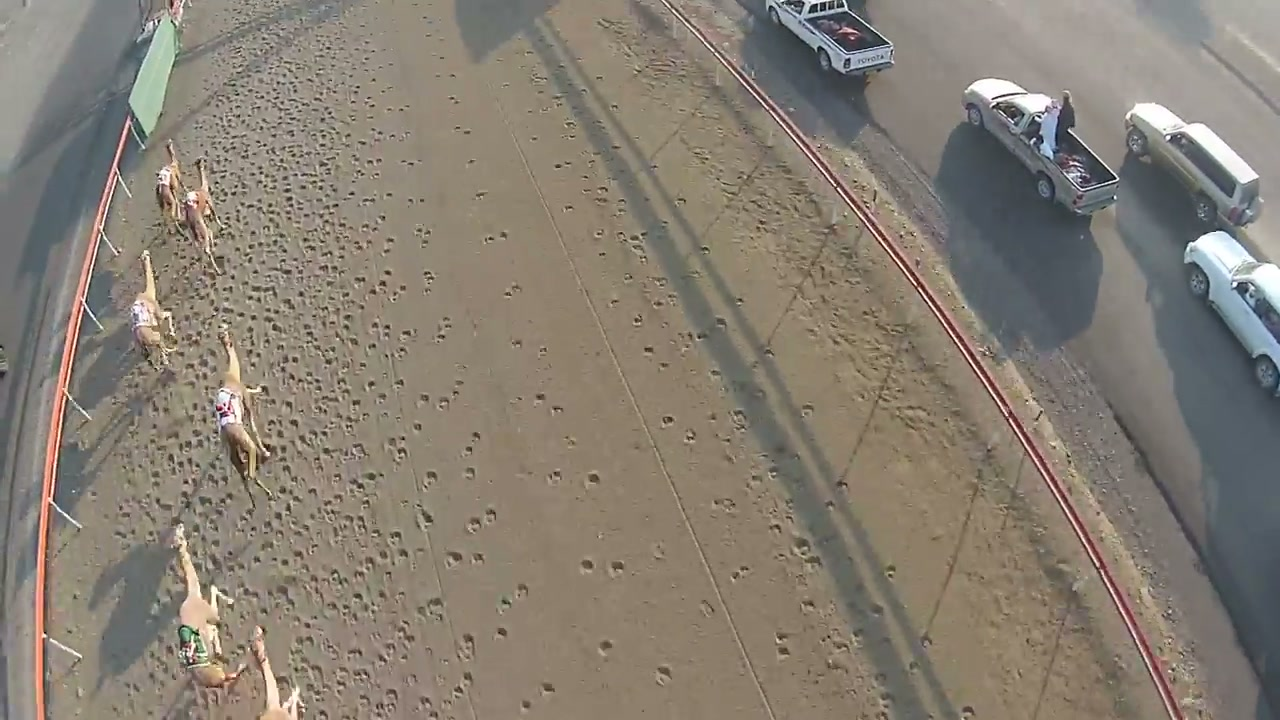animal_footprint: (480, 24, 944, 688), (140, 33, 415, 719), (406, 4, 644, 704), (384, 115, 529, 684)
